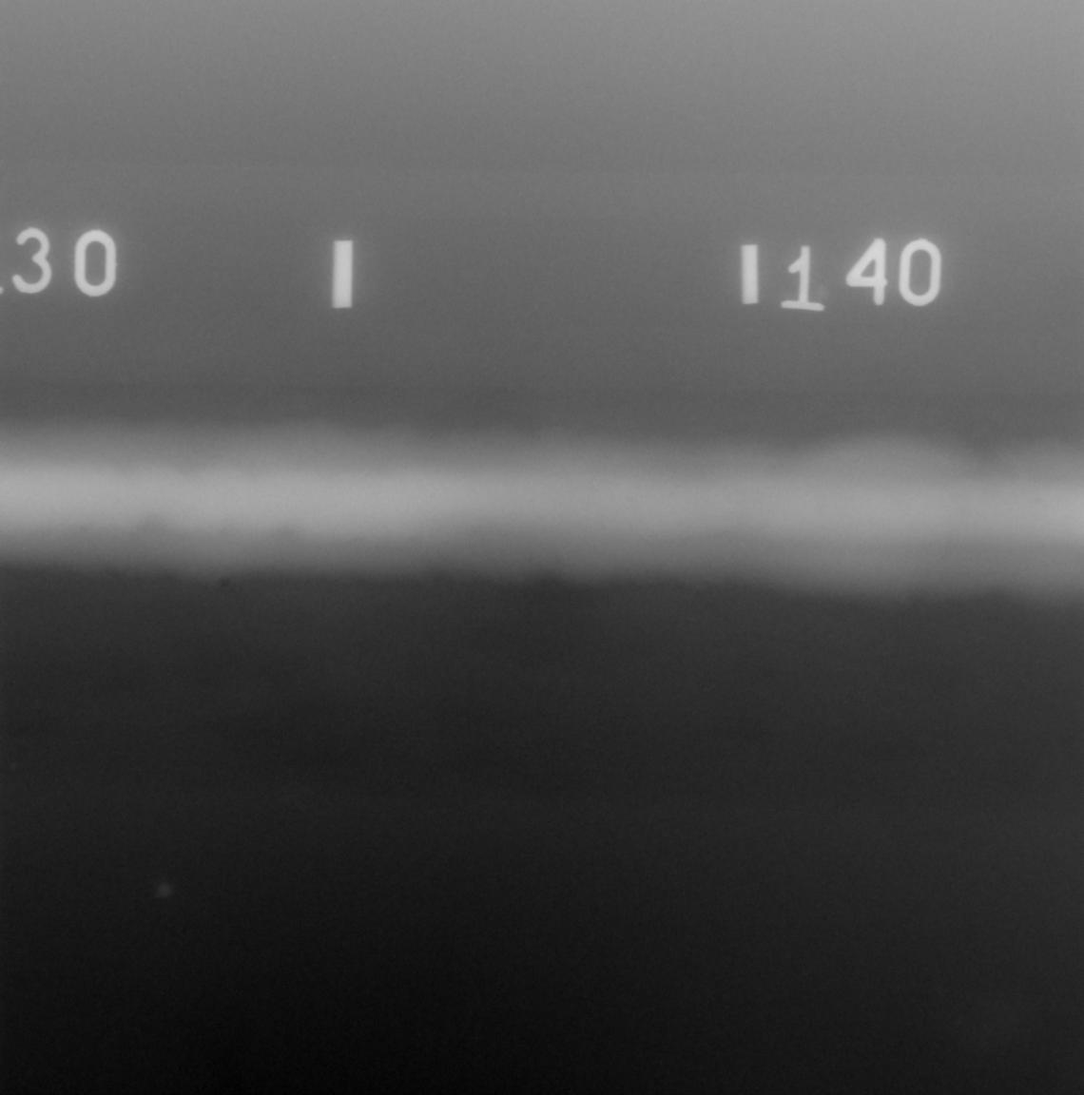Pore/Porosity: (1033, 498, 1041, 504)
Undercut: (222, 580, 228, 586)
